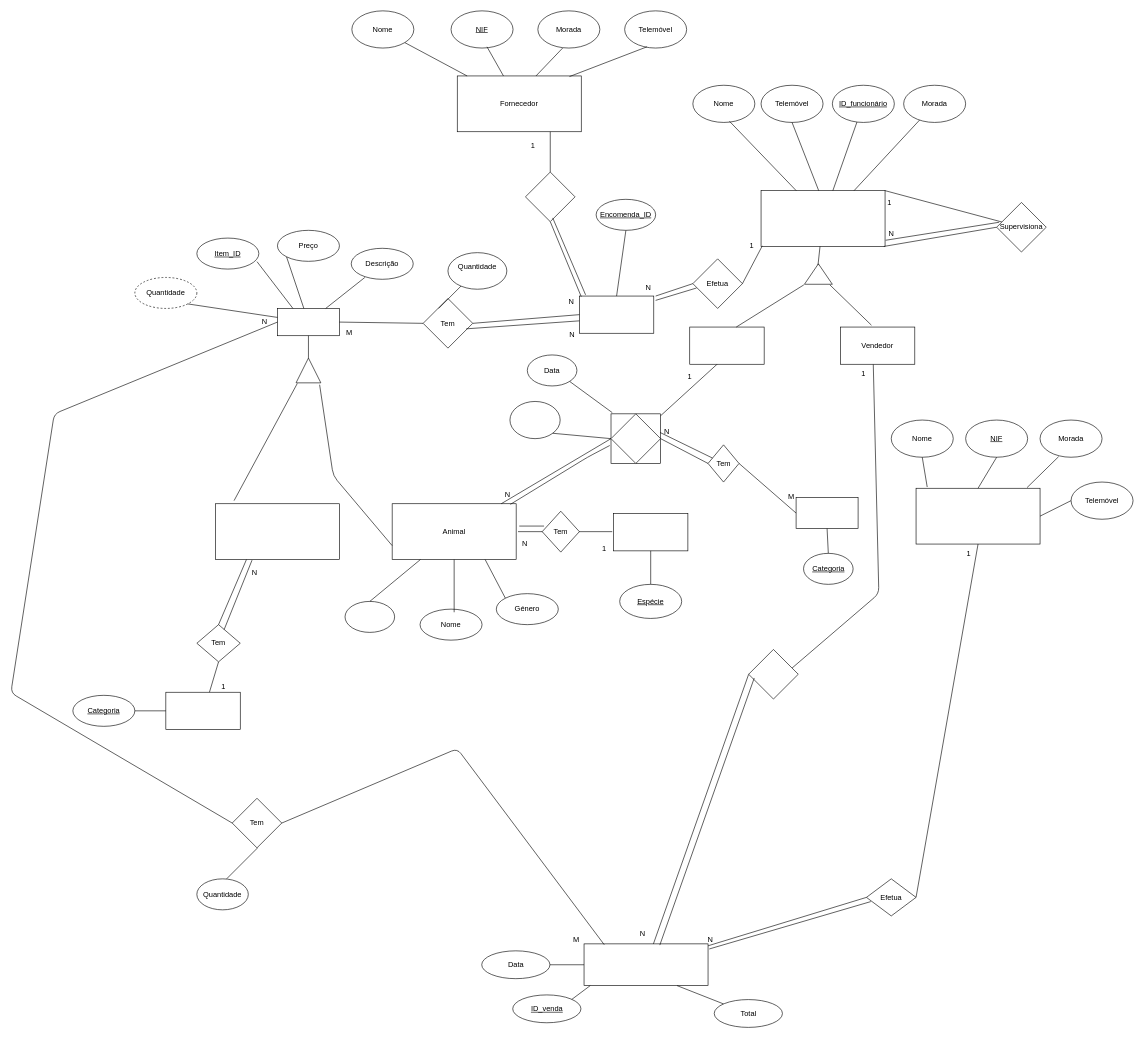
Some shapes in this 1144 by 1057 pixel diagram are drawn without their labels. The shapes that lost their labels are listed below. From the top down, each one's centre as x and y in pixels, then its label:
At pixel 550 196: "Fornece".
At pixel 822 218: "Funcionário".
At pixel 308 322: "Item".
At pixel 616 314: "Encomenda".
At pixel 726 345: "Tratador".
At pixel 534 420: "Código".
At pixel 635 438: "Trata".
At pixel 277 531: "Produto".
At pixel 650 532: "Tipo_Animal".
At pixel 826 513: "Tipo_Tratamento".
At pixel 977 516: "Cliente".
At pixel 369 616: "Idade".
At pixel 773 674: "Responsável".
At pixel 202 710: "Tipo_Produto".
At pixel 645 964: "Compra".
